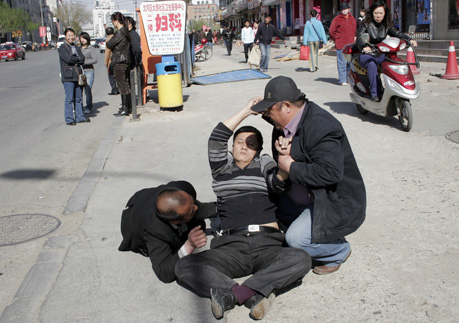10+: (1, 1, 457, 322)
down: (169, 90, 322, 323)
